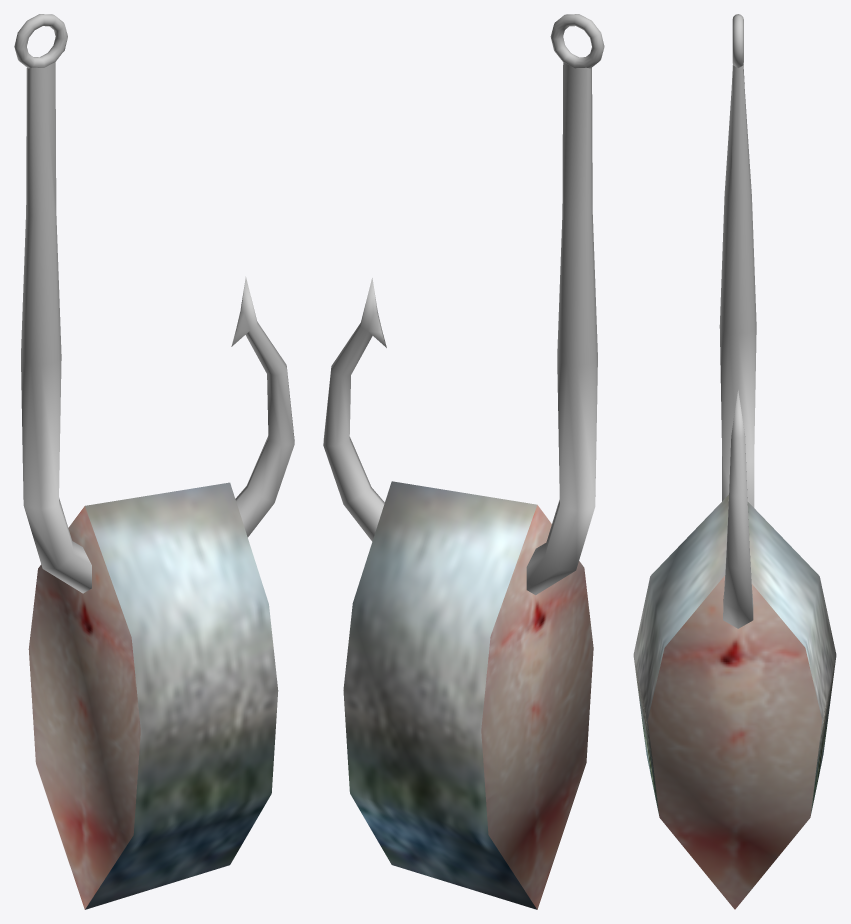
Rendered from Bait_Mackerel.fbx.
3 views of the same model, side by side, from view 1: azimuth 30°, elevation 25°; view 2: azimuth 150°, elevation 25°; view 3: azimuth 270°, elevation 25° (orthographic). The views are drawn at different scales.
Parts seen in each view (by area): view 1: Bait_Mackerel; view 2: Bait_Mackerel; view 3: Bait_Mackerel.
Boxes of the visible parts, bbox=[...] form: Bait_Mackerel: bbox=[14, 14, 294, 909]; Bait_Mackerel: bbox=[323, 14, 604, 909]; Bait_Mackerel: bbox=[633, 14, 836, 909].
Size of the model in its own units: 0.2116 by 0.6546 by 0.147.
